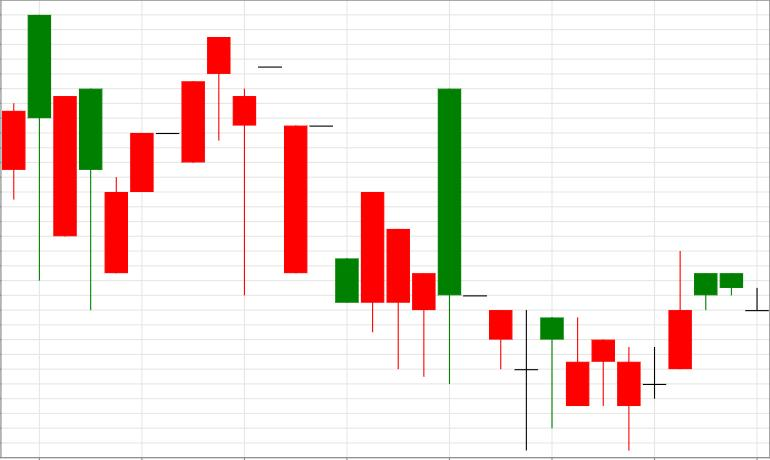hanging_man_fall: (104, 37, 231, 273)
